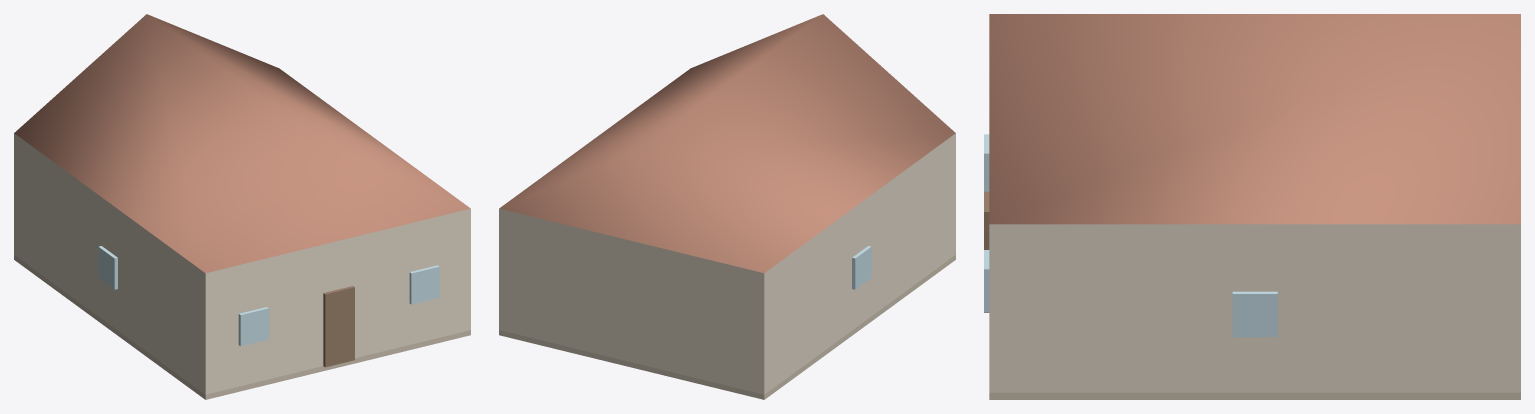
The model's file is house.glb.
The picture shows the model from 3 angles, left to right: view 1: azimuth 30°, elevation 25°; view 2: azimuth 150°, elevation 25°; view 3: azimuth 270°, elevation 25°; orthographic projection. The views are drawn at different scales.
Size of the model in its own units: 0.0082 by 0.00615 by 0.0101.
